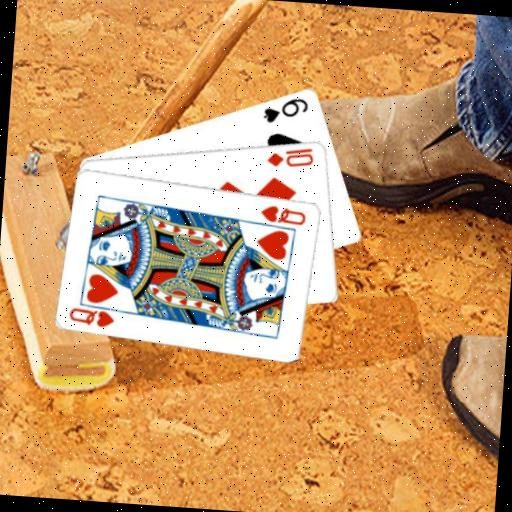10D: (264, 141, 317, 170)
6S: (260, 92, 311, 127)
QH: (66, 298, 125, 329), (258, 201, 309, 227)
